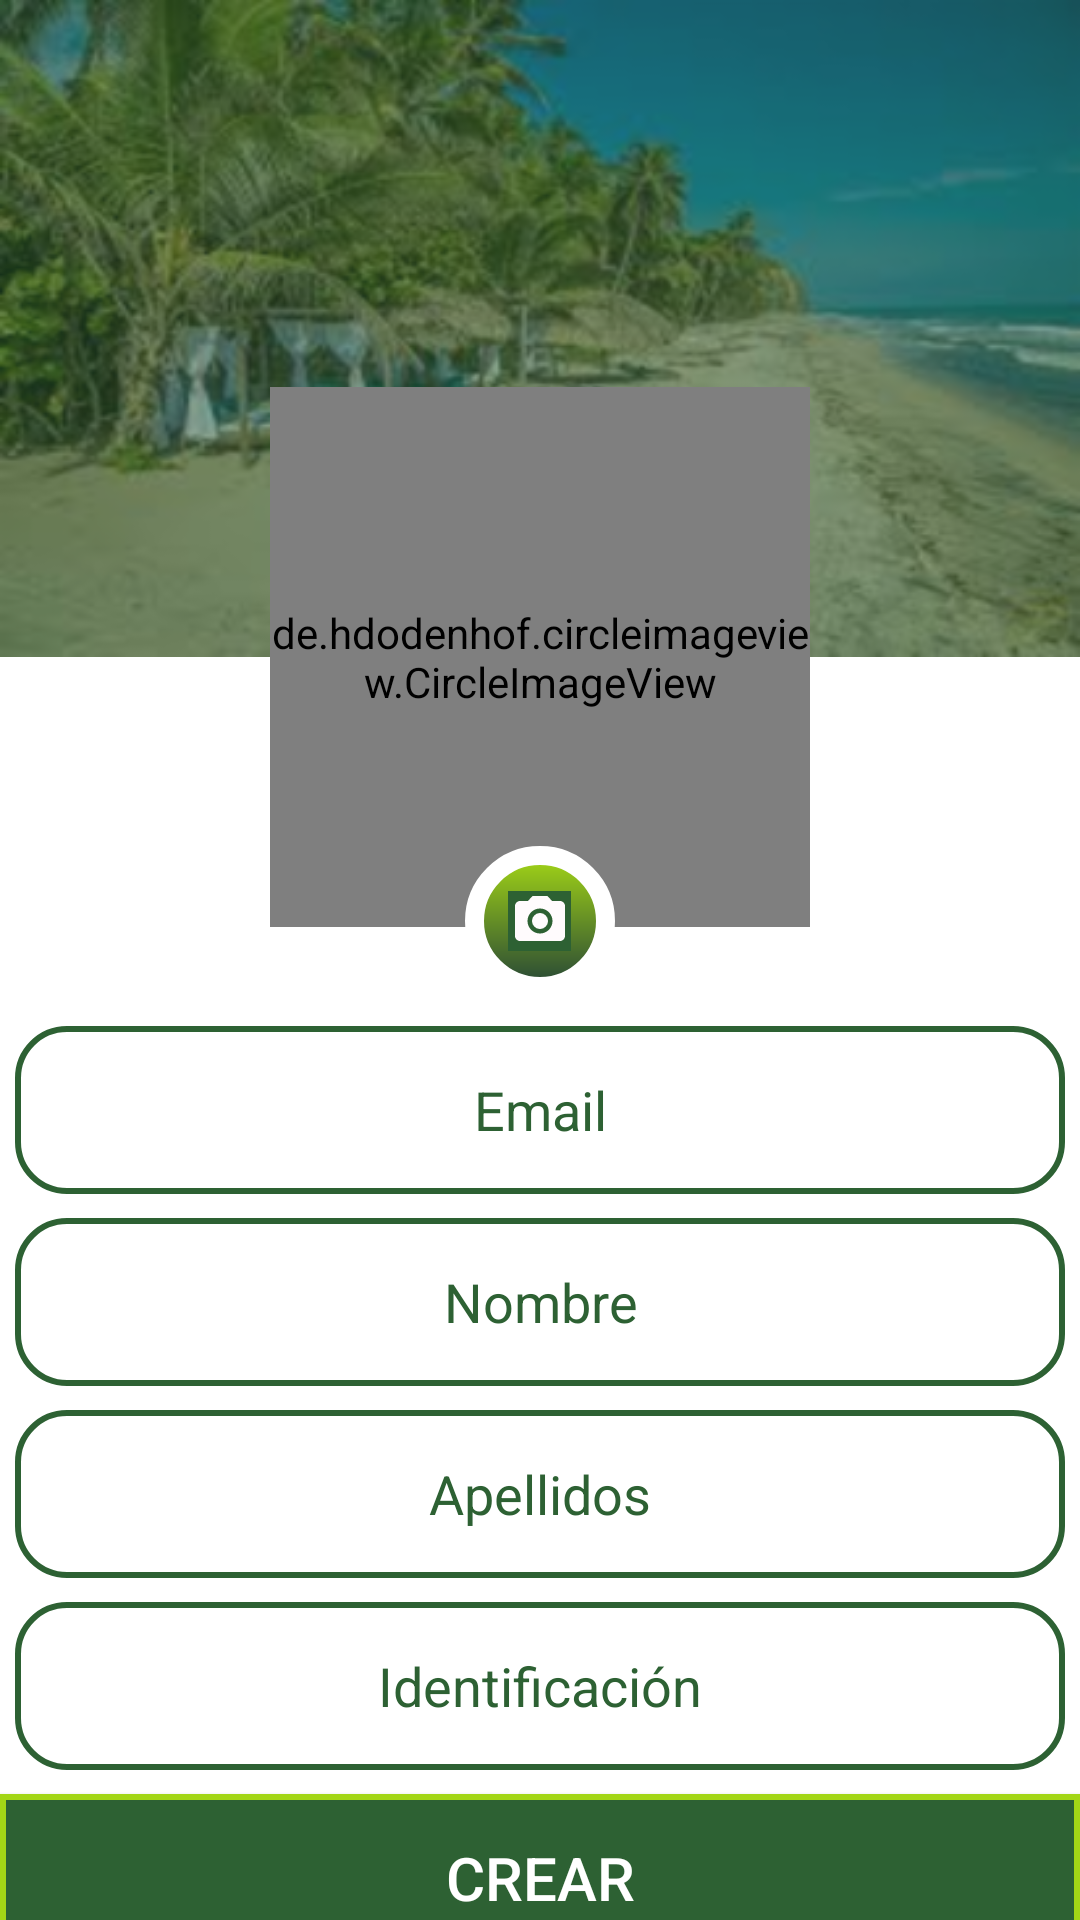

Point at icon controls on the screen. Image size 1080w x 1920h, points as point (x, y).
camera: point (539, 921)
